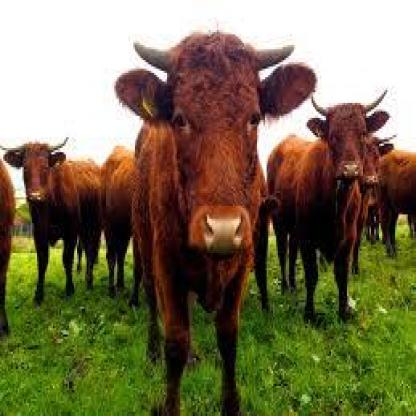cow: (116, 32, 314, 416), (271, 100, 388, 318), (6, 142, 104, 304), (355, 132, 395, 275), (103, 142, 141, 290)
